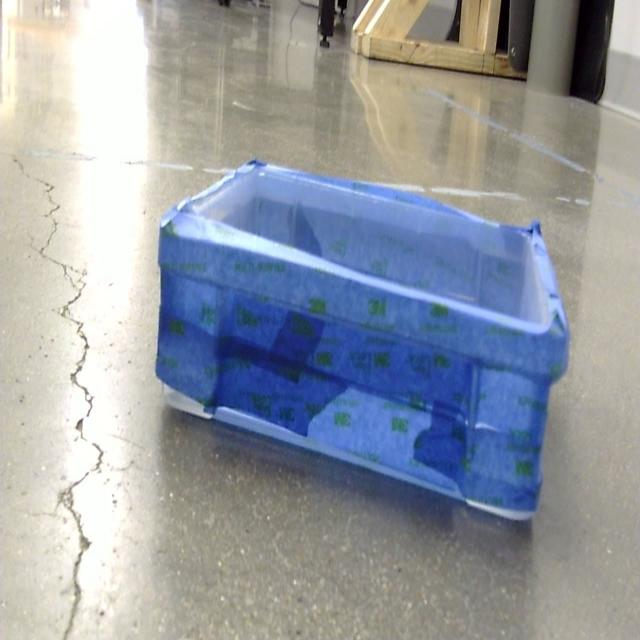bucket: (153, 161, 570, 526)
